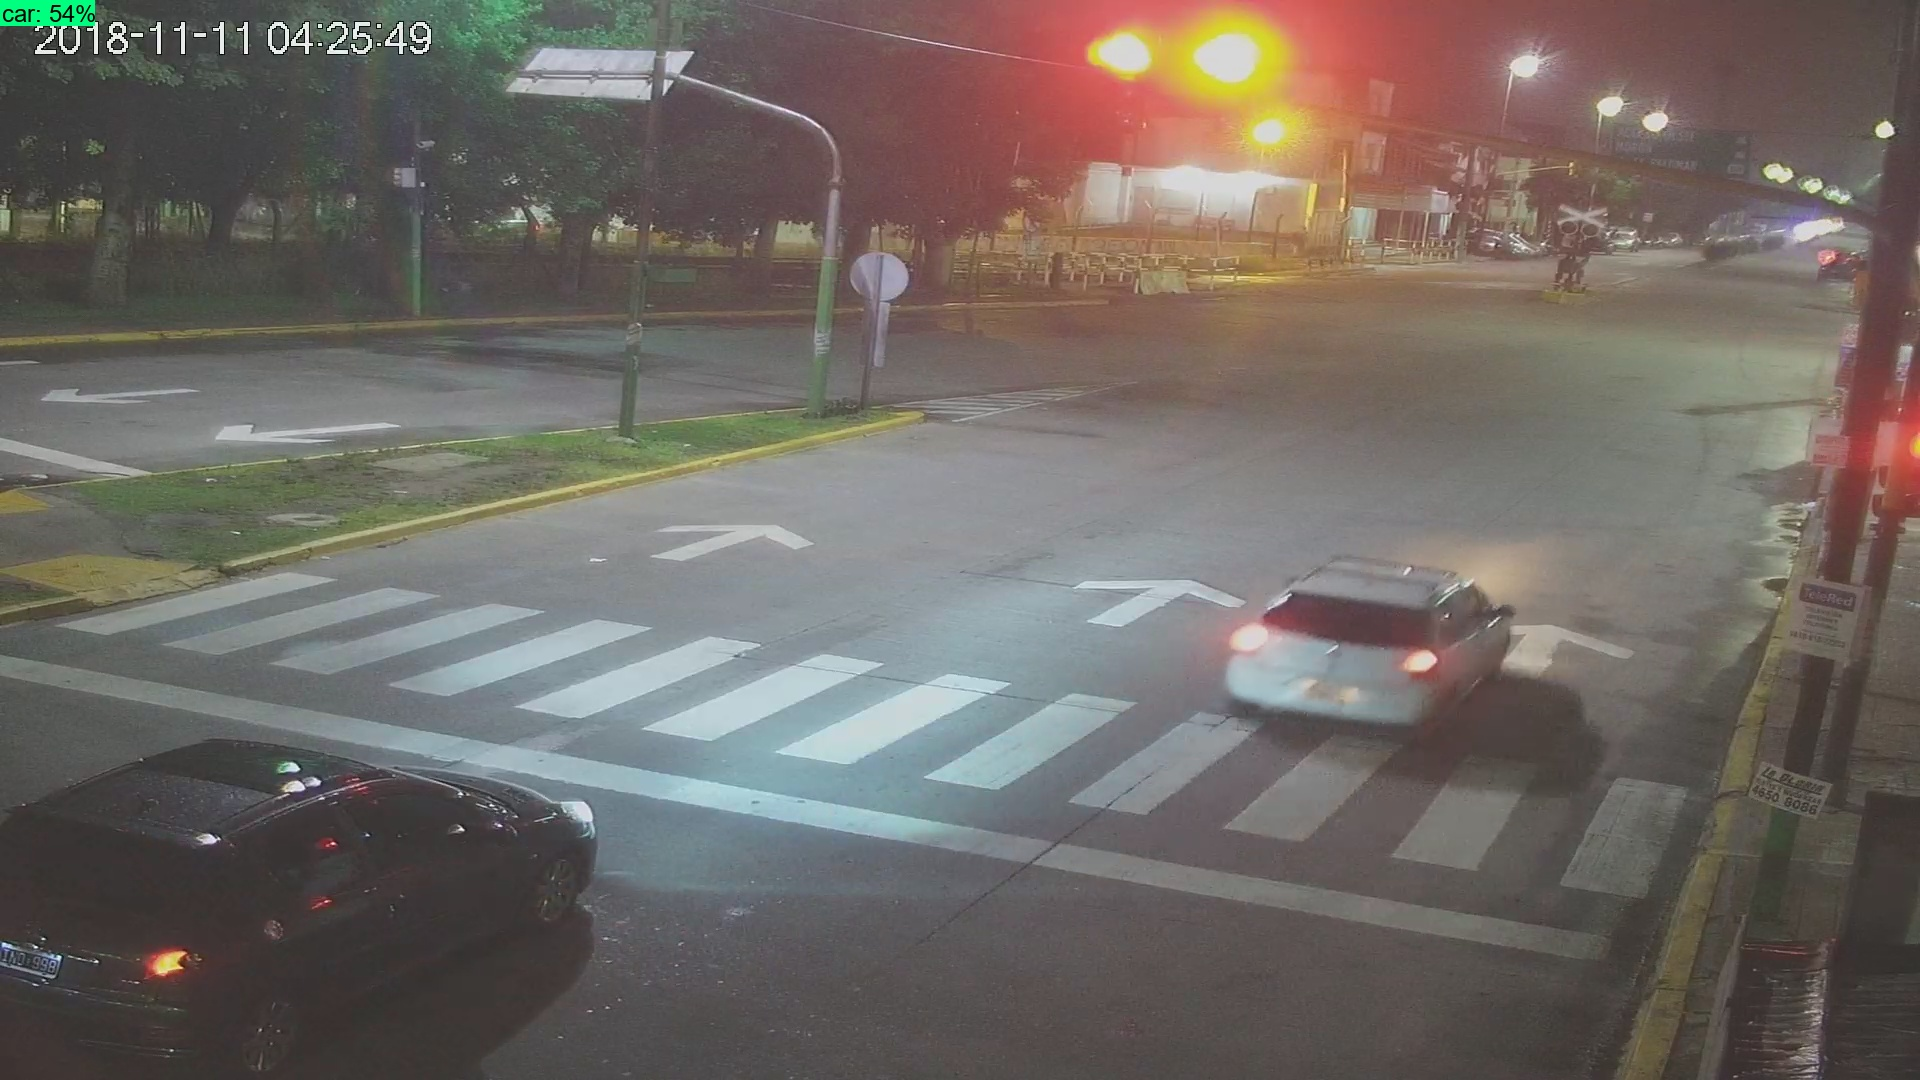car: (3, 735, 615, 1080), (1215, 549, 1518, 742)
